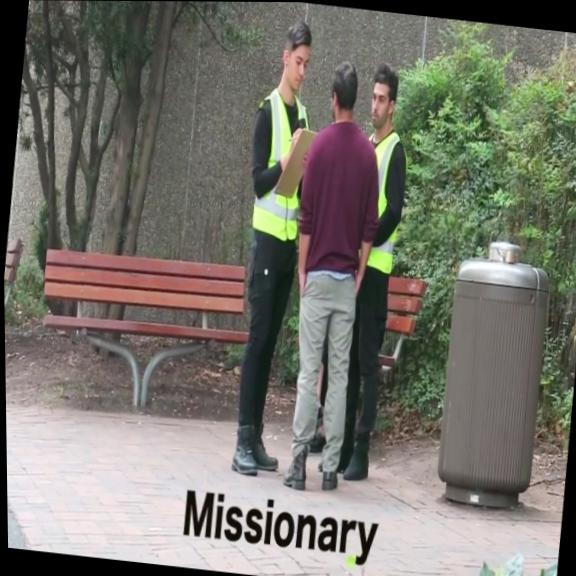safety_vest: (243, 80, 313, 241), (352, 125, 412, 277)
